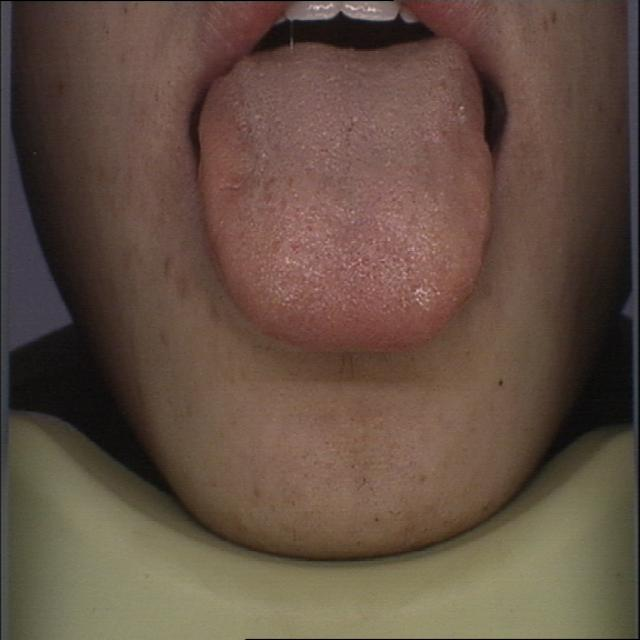tongue: (192, 35, 500, 356)
